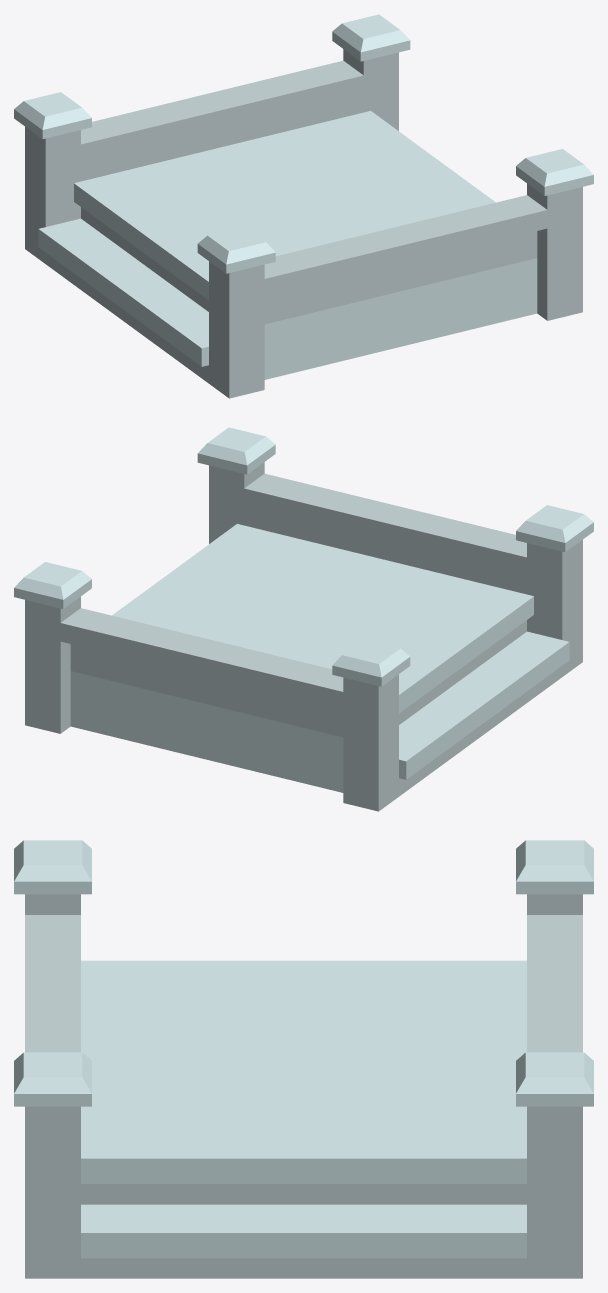
Rendered from bridge_stone.gltf.
3 renders of one model, top to bottom at view 1: azimuth 30°, elevation 25°; view 2: azimuth 150°, elevation 25°; view 3: azimuth 270°, elevation 25°, orthographic. The views are drawn at different scales.
Parts seen in each view (by area): view 1: bridge_stone; view 2: bridge_stone; view 3: bridge_stone.
Part boxes in pixels (box(x1,y1,x2,y2)): bridge_stone: box(14, 14, 593, 398); bridge_stone: box(14, 427, 593, 811); bridge_stone: box(14, 840, 593, 1278).
Bounding box in the file's own units: 1.04 × 0.4 × 1.04.
